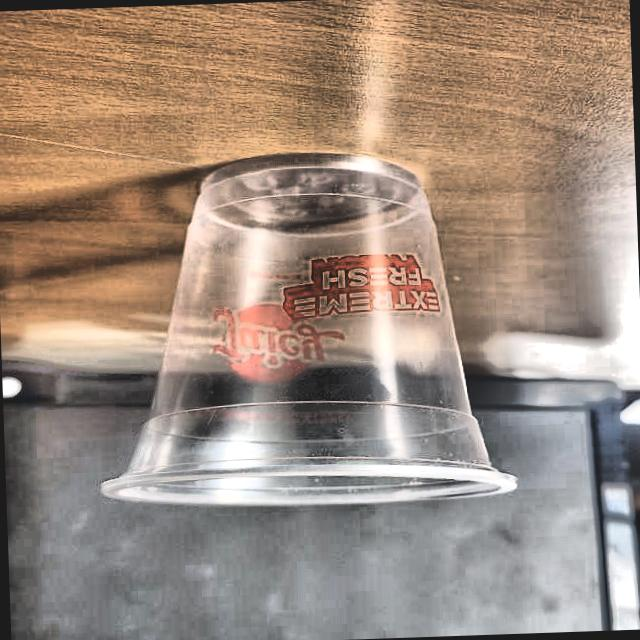plastic cup: (84, 145, 521, 512)
